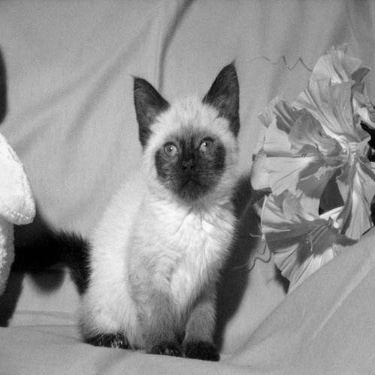cat: (87, 46, 242, 369)
